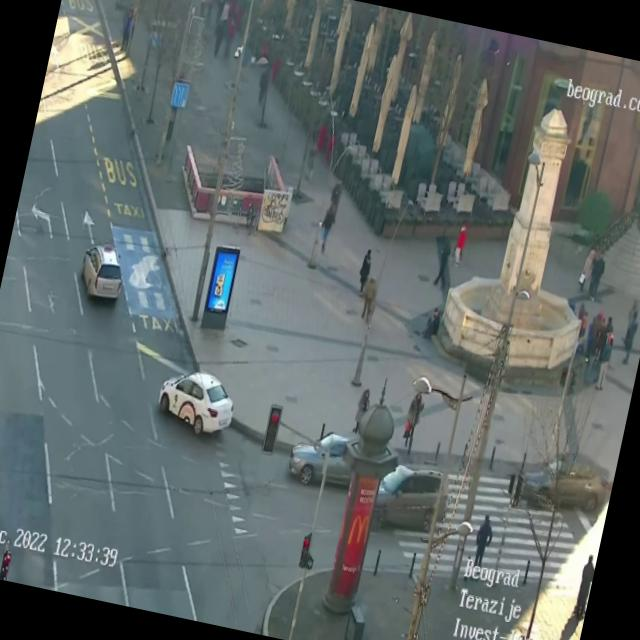car: (286, 420, 399, 500), (512, 446, 614, 520), (370, 457, 456, 540), (152, 362, 240, 441), (75, 238, 129, 302)
